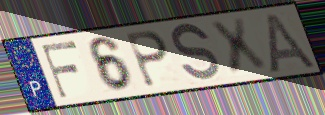6: (86, 34, 136, 94)
A: (263, 11, 319, 76)
F: (39, 39, 82, 101)
P: (124, 29, 172, 90)
S: (171, 21, 222, 86)
X: (206, 15, 272, 79)
